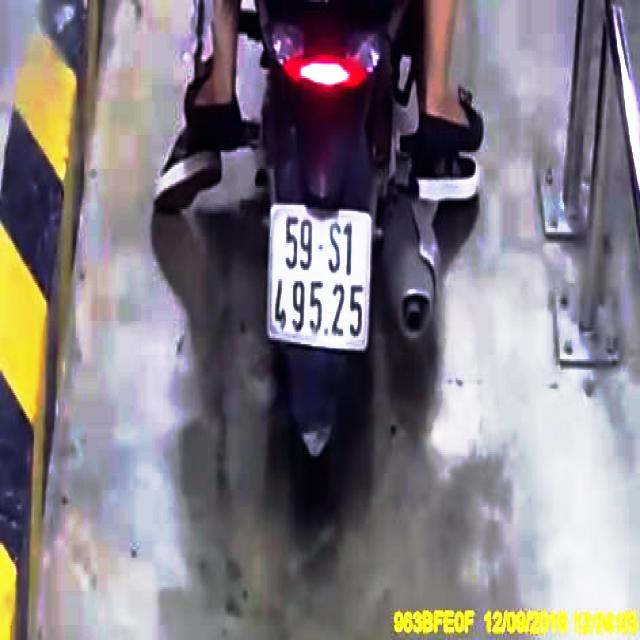license_plate: (270, 205, 370, 345)
